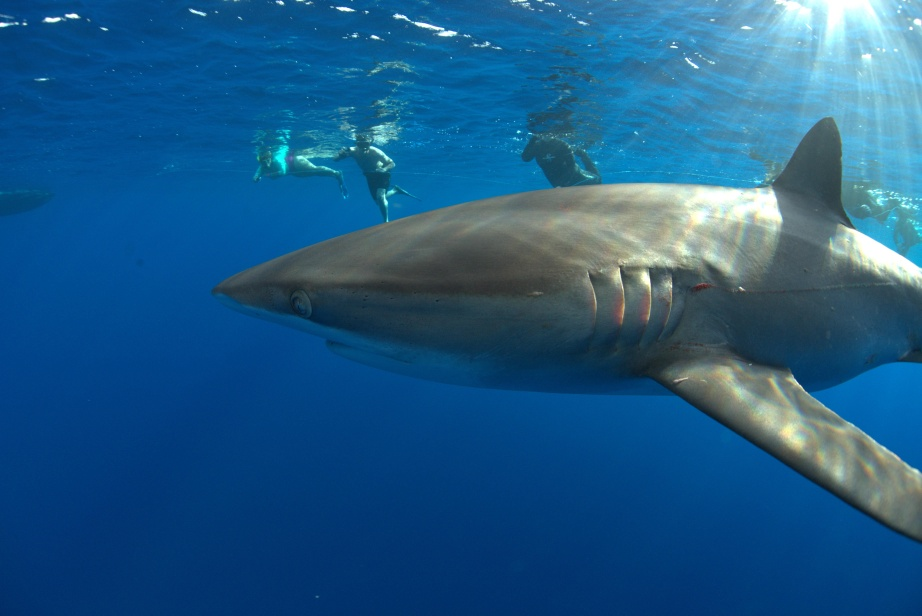Sedoso: (175, 109, 922, 542)
